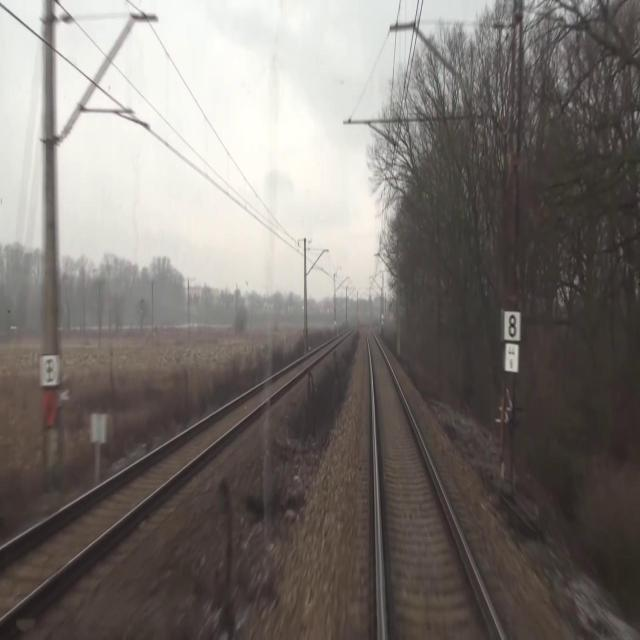rail-track: (0, 338, 338, 614), (367, 326, 501, 639)
